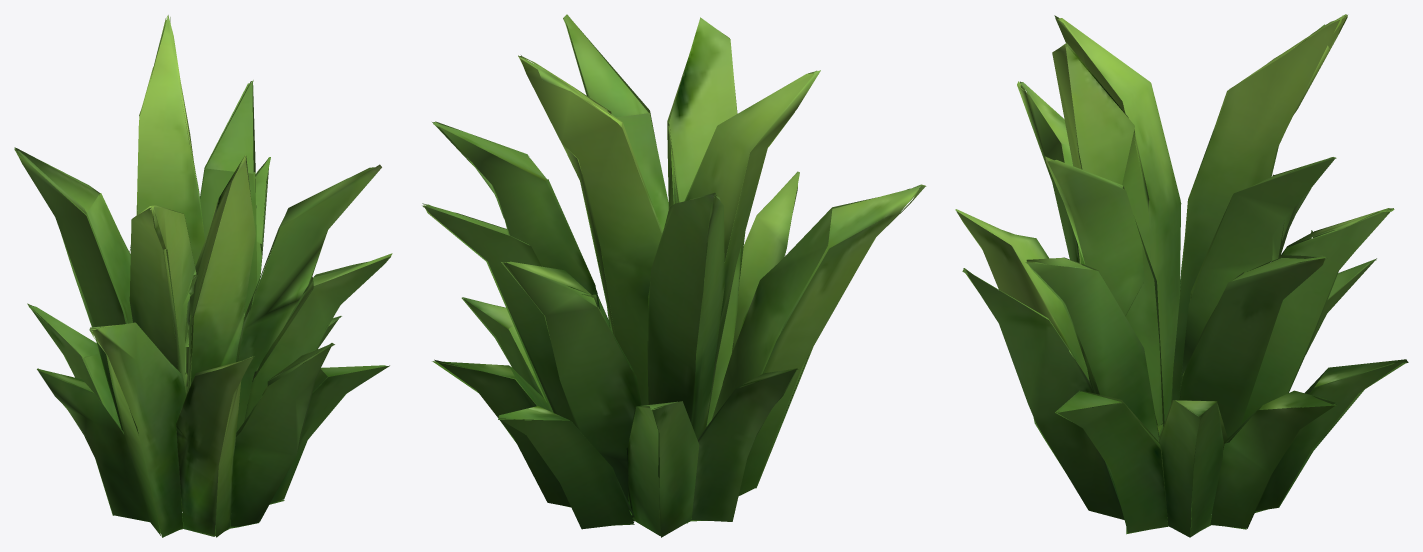
The model's file is grass_gen_c.glb.
3 views of the same model, side by side, from view 1: azimuth 30°, elevation 25°; view 2: azimuth 150°, elevation 25°; view 3: azimuth 270°, elevation 25° (orthographic). The views are drawn at different scales.
Visible parts, largest first — view 1: grass_gen.002; view 2: grass_gen.002; view 3: grass_gen.002.
Boxes of the visible parts, bbox=[...] form: grass_gen.002: bbox=[14, 15, 392, 537]; grass_gen.002: bbox=[422, 14, 926, 537]; grass_gen.002: bbox=[955, 14, 1408, 537].
Bounding box in the file's own units: 1.2 × 1.51 × 1.21.
1 material, 1 textured.
